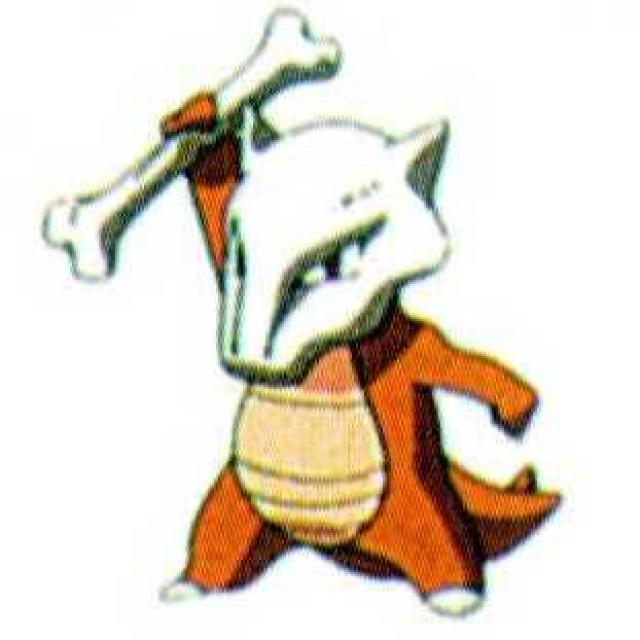Marowak: (146, 78, 488, 614)
